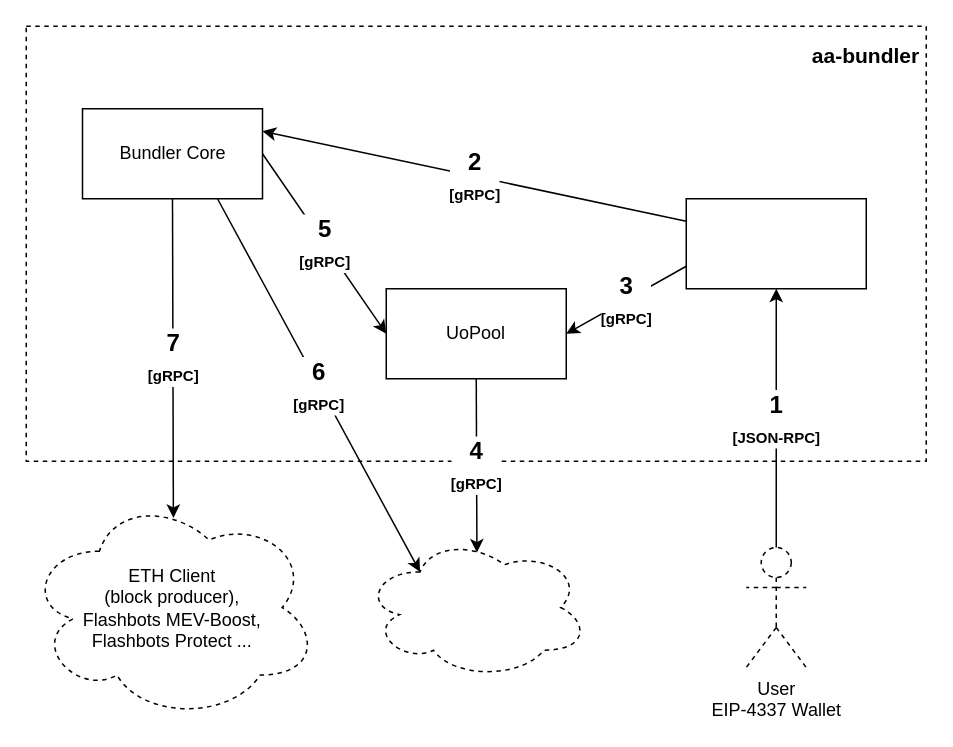
Some shapes in this 953 by 747 pixel diagram are drawn without their labels. The centre of each missing label's shape, as x and y in pixels:
ETH Client(s): (475,607)
ETH RPC API: (775,243)
